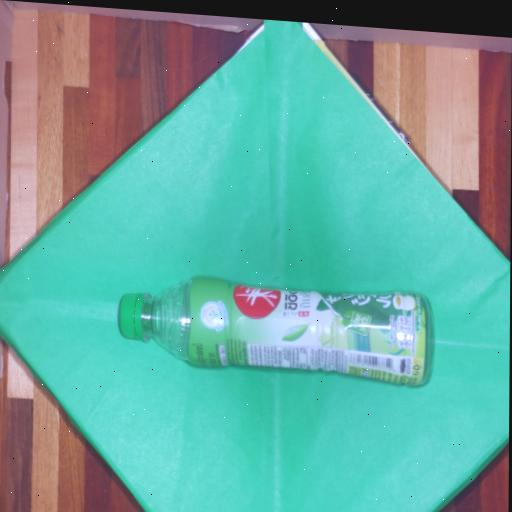bottle: (102, 256, 449, 418)
